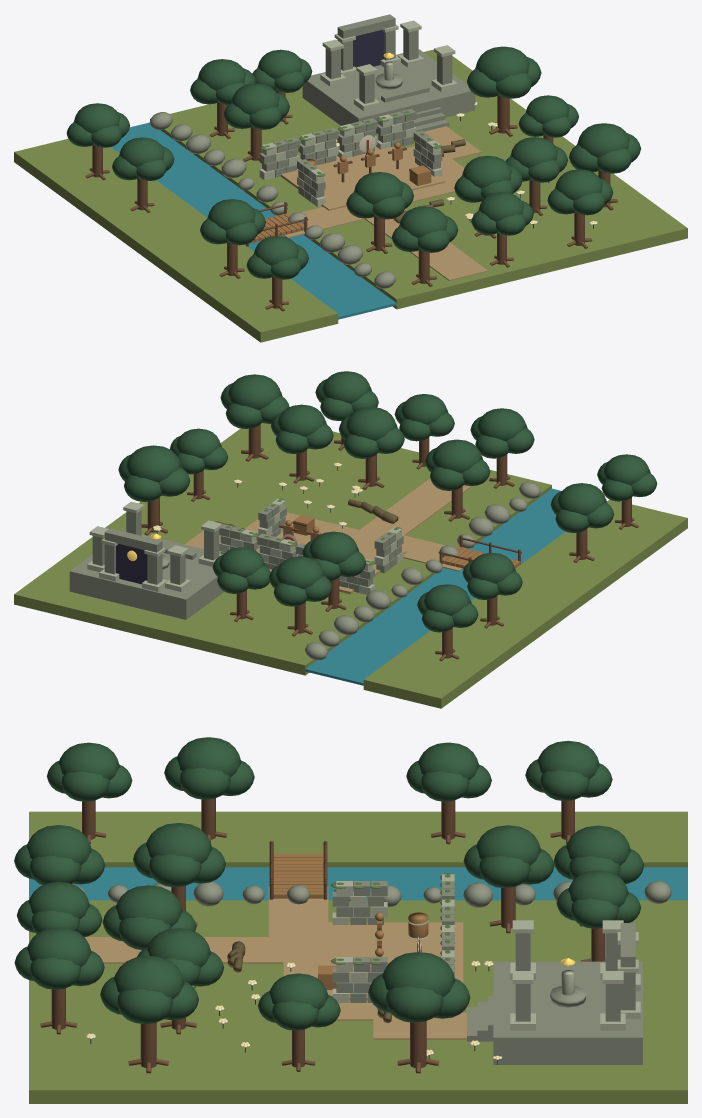
Rendered from verdant_corrupted.glb.
3 views of the same model, one above another, from view 1: azimuth 30°, elevation 25°; view 2: azimuth 150°, elevation 25°; view 3: azimuth 270°, elevation 25° (orthographic). The views are drawn at different scales.
Parts seen in each view (by area): view 1: east_bank, west_bank, canopy_0 (×16), stream, canopy_4 (×13), boss_grove, walk_path (×4), training_yard, canopy_1 (×5), door, lintel; view 2: east_bank, west_bank, canopy_0 (×16), stream, canopy_3 (×14), boss_grove, walk_path (×3), canopy_1 (×3), door, lintel, training_yard; view 3: east_bank, canopy_0 (×16), west_bank, canopy_2 (×15), boss_grove, walk_path (×4), stream, canopy_3 (×12), training_yard, trunk (×4), column (×4), rock (×2) (+2 smaller).
Boxes of the visible parts, x1=… form: east_bank: x1=150, y1=49, x2=687, y2=309; west_bank: x1=14, y1=138, x2=338, y2=342; canopy_0 (×16): x1=74, y1=46, x2=629, y2=265; stream: x1=111, y1=122, x2=396, y2=319; canopy_4 (×13): x1=91, y1=72, x2=632, y2=279; boss_grove: x1=302, y1=49, x2=475, y2=134; walk_path (×4): x1=284, y1=126, x2=487, y2=280; training_yard: x1=281, y1=145, x2=445, y2=210; canopy_1 (×5): x1=346, y1=68, x2=599, y2=251; door: x1=353, y1=30, x2=383, y2=67; lintel: x1=337, y1=14, x2=395, y2=38; east_bank: x1=14, y1=423, x2=551, y2=675; west_bank: x1=363, y1=499, x2=687, y2=708; canopy_0 (×16): x1=126, y1=371, x2=649, y2=615; stream: x1=305, y1=488, x2=565, y2=685; canopy_3 (×14): x1=124, y1=397, x2=633, y2=632; boss_grove: x1=69, y1=530, x2=224, y2=619; walk_path (×3): x1=245, y1=478, x2=472, y2=571; canopy_1 (×3): x1=159, y1=427, x2=490, y2=496; door: x1=116, y1=543, x2=147, y2=584; lintel: x1=104, y1=528, x2=162, y2=552; training_yard: x1=256, y1=523, x2=406, y2=594; east_bank: x1=29, y1=900, x2=687, y2=1103; canopy_0 (×16): x1=26, y1=737, x2=630, y2=1009; west_bank: x1=29, y1=811, x2=687, y2=867; canopy_2 (×15): x1=29, y1=767, x2=620, y2=1030; boss_grove: x1=493, y1=961, x2=642, y2=1064; walk_path (×4): x1=84, y1=886, x2=466, y2=1039; stream: x1=29, y1=867, x2=687, y2=900; canopy_3 (×12): x1=72, y1=760, x2=644, y2=1020; training_yard: x1=313, y1=922, x2=463, y2=1000; trunk (×4): x1=51, y1=886, x2=515, y2=1067; column (×4): x1=515, y1=933, x2=635, y2=1021; rock (×2): x1=193, y1=881, x2=492, y2=907.
Bounding box in the file's own units: 22 × 4.51 × 22.5.
